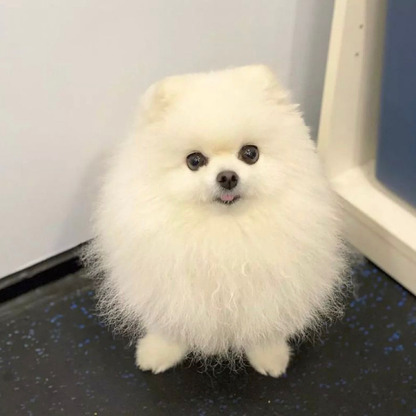Pomeranian: (86, 59, 361, 371)
